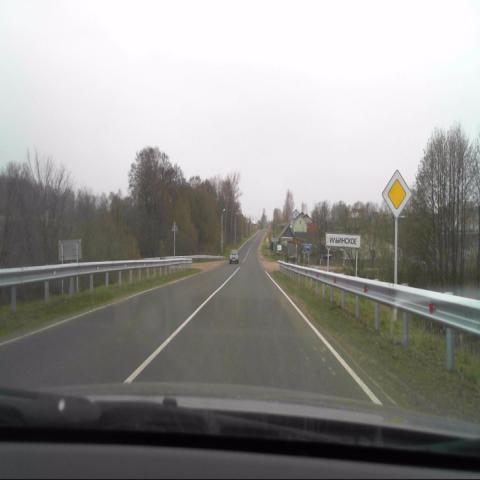2_1: (382, 171, 411, 219)
